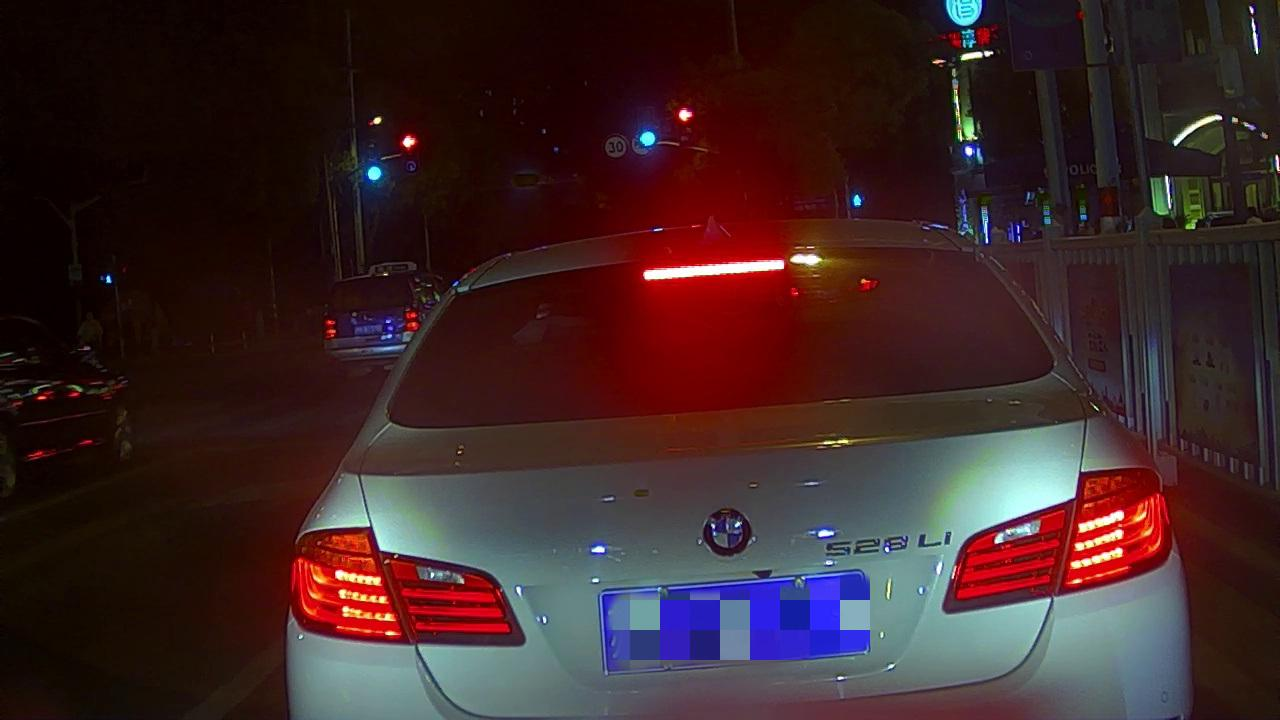traffic_light: (671, 102, 697, 125), (397, 129, 419, 153), (365, 159, 383, 186), (638, 129, 657, 152)
